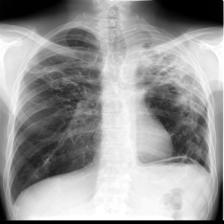tuberculosis: (5, 22, 216, 210)
